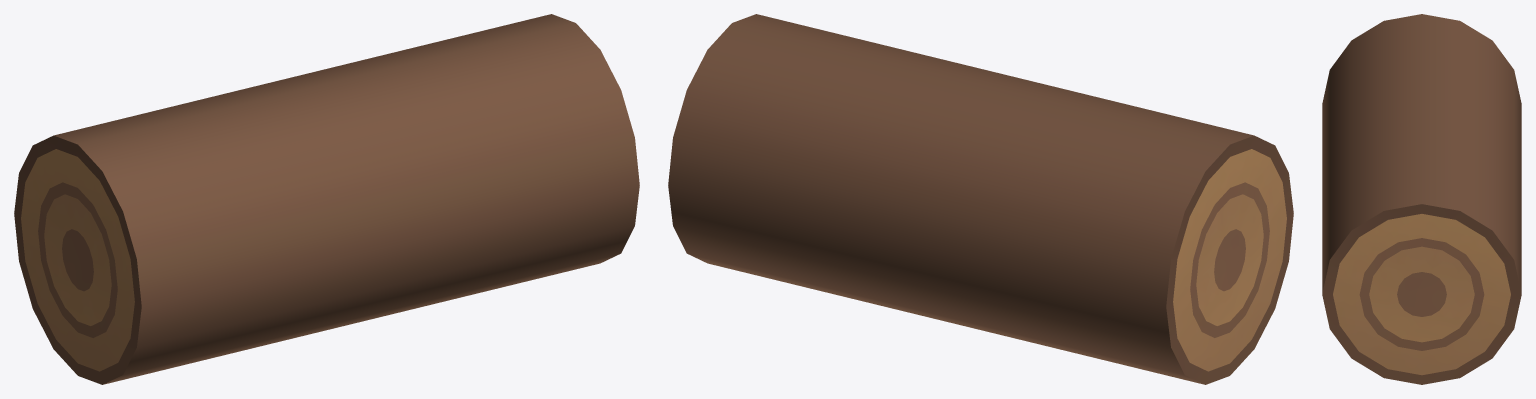
File: wood s.fbx
The picture shows the model from 3 angles, left to right: view 1: azimuth 30°, elevation 25°; view 2: azimuth 150°, elevation 25°; view 3: azimuth 270°, elevation 25°; orthographic projection. The views are drawn at different scales.
Visible parts, largest first — view 1: short_wood; view 2: short_wood; view 3: short_wood.
Part boxes in pixels (box(x1,y1,x2,y2)): short_wood: box(14, 14, 639, 384); short_wood: box(668, 14, 1293, 384); short_wood: box(1322, 14, 1521, 384).
Bounding box in the file's own units: 7.99 × 3.55 × 3.55.
1 material, 1 textured.
